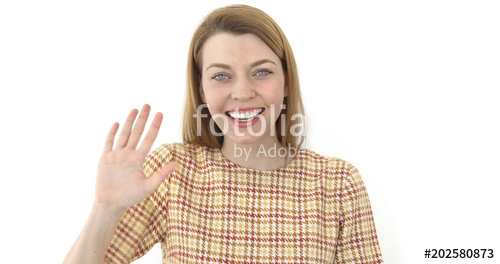open_hand: (86, 102, 183, 209)
